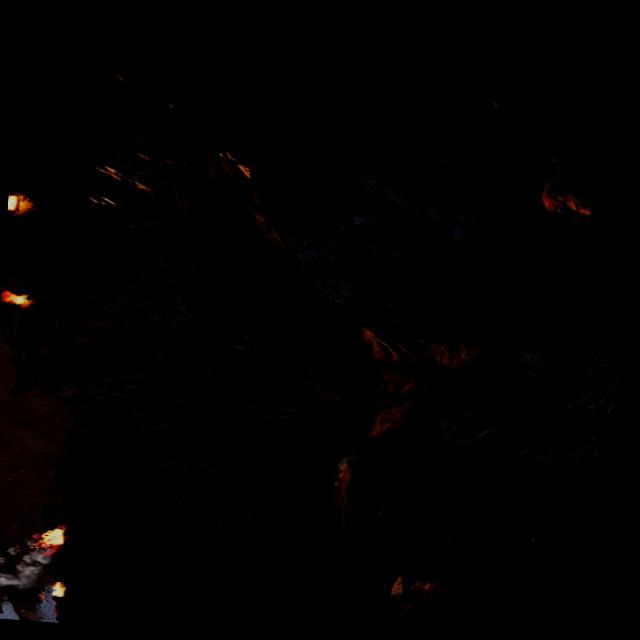fire: (38, 525, 66, 547), (1, 289, 30, 306), (7, 191, 26, 212), (51, 580, 66, 596)
smoke: (0, 535, 52, 591)
